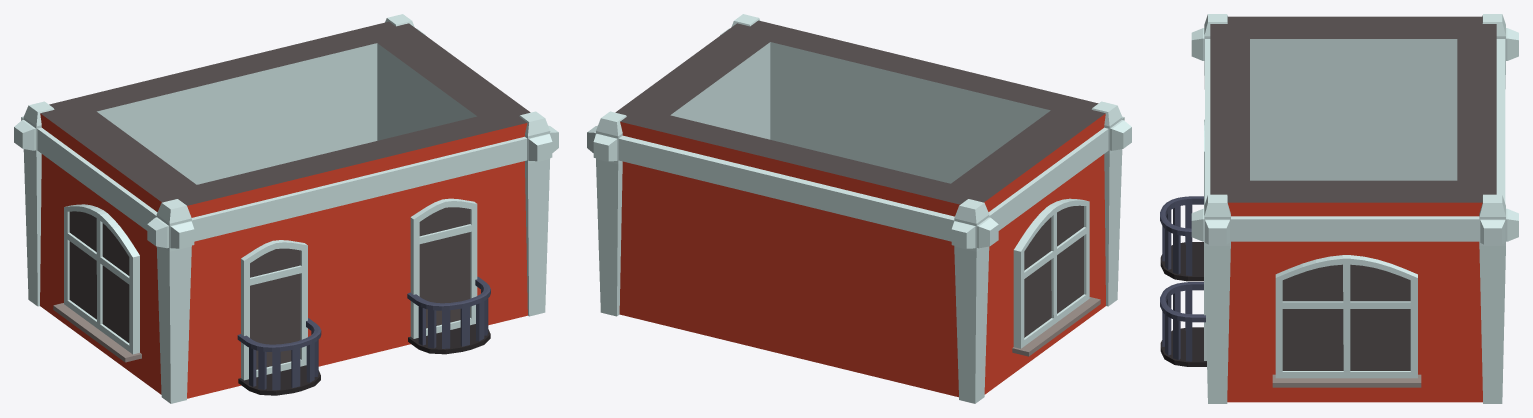
File: Testhouse_Floor_VAR2.fbx
3 renders of one model, left to right at view 1: azimuth 30°, elevation 25°; view 2: azimuth 150°, elevation 25°; view 3: azimuth 270°, elevation 25°, orthographic. The views are drawn at different scales.
Visible parts, largest first — view 1: Testhouse_Floor.002; view 2: Testhouse_Floor.002; view 3: Testhouse_Floor.002.
Boxes of the visible parts, x1,y1,x2,y2 form: Testhouse_Floor.002: (14, 14, 558, 403); Testhouse_Floor.002: (587, 14, 1131, 403); Testhouse_Floor.002: (1160, 14, 1518, 403).
Bounding box in the file's own units: 219 × 163 × 101.
